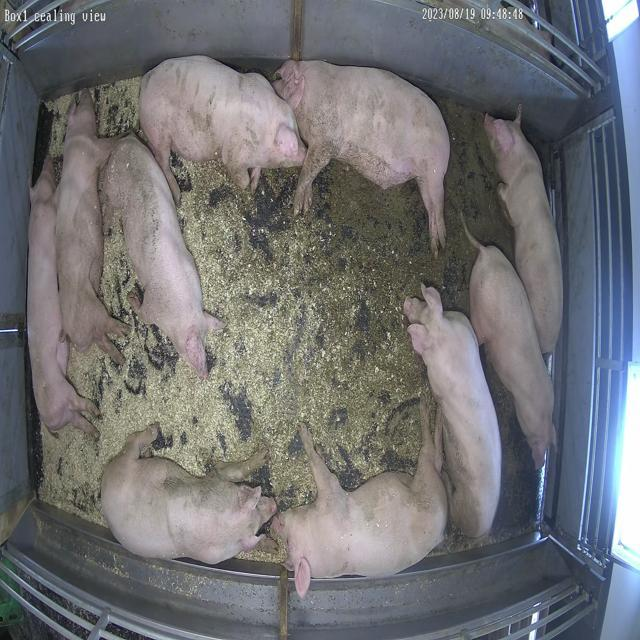Dirt: (294, 102, 513, 490), (436, 357, 540, 554)
Pig: (273, 60, 451, 254), (272, 411, 449, 598), (102, 134, 223, 378), (405, 286, 503, 538), (139, 55, 306, 202), (101, 426, 276, 566), (466, 225, 556, 468), (26, 159, 98, 433), (56, 89, 126, 364), (485, 110, 564, 353)
